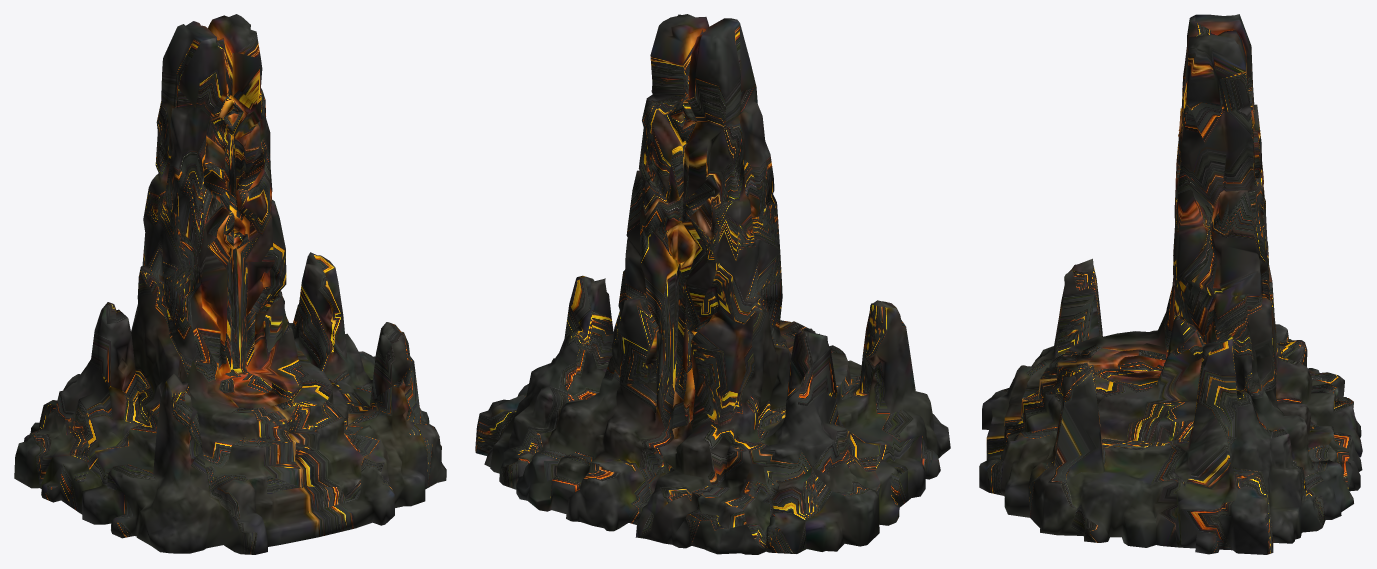
Rendered from Volcanic_Monolith.glb.
3 views of the same model, side by side, from view 1: azimuth 30°, elevation 25°; view 2: azimuth 150°, elevation 25°; view 3: azimuth 270°, elevation 25° (orthographic). The views are drawn at different scales.
Parts seen in each view (by area): view 1: Volcanic_Monolith; view 2: Volcanic_Monolith; view 3: Volcanic_Monolith.
Part boxes in pixels (left/top/right/bottom): Volcanic_Monolith: left=14, top=14, right=446, bottom=554; Volcanic_Monolith: left=475, top=14, right=950, bottom=554; Volcanic_Monolith: left=979, top=14, right=1362, bottom=554.
Size of the model in its own units: 1.7 by 1.9 by 1.51.
Materials: 1 (1 with a texture image).
